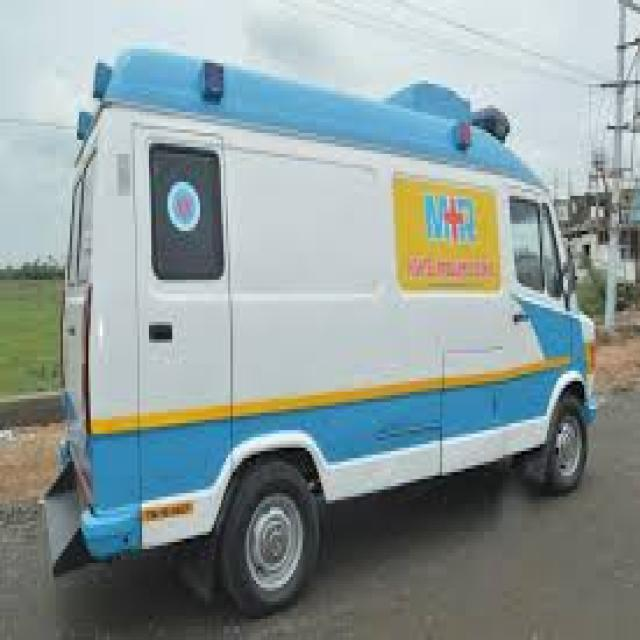ambulance: (40, 49, 610, 610)
